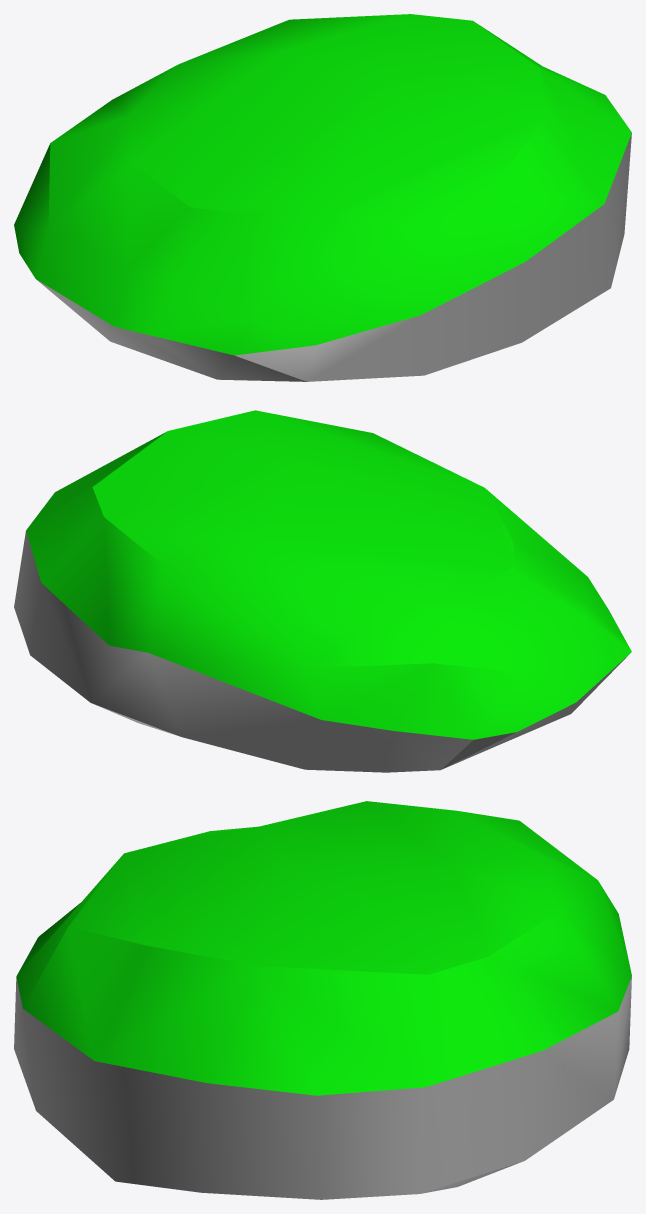
The model's file is rock_gen_round_mini_H.fbx.
The picture shows the model from 3 angles, top to bottom: view 1: azimuth 30°, elevation 25°; view 2: azimuth 150°, elevation 25°; view 3: azimuth 270°, elevation 25°; orthographic projection. The views are drawn at different scales.
Visible parts, largest first — view 1: rock_gen_round_mini_H; view 2: rock_gen_round_mini_H; view 3: rock_gen_round_mini_H.
Boxes of the visible parts, x1,y1,x2,y2 form: rock_gen_round_mini_H: (14, 14, 631, 381); rock_gen_round_mini_H: (14, 410, 631, 772); rock_gen_round_mini_H: (14, 801, 631, 1199).
Bounding box in the file's own units: 12.99 × 4.25 × 10.61.
